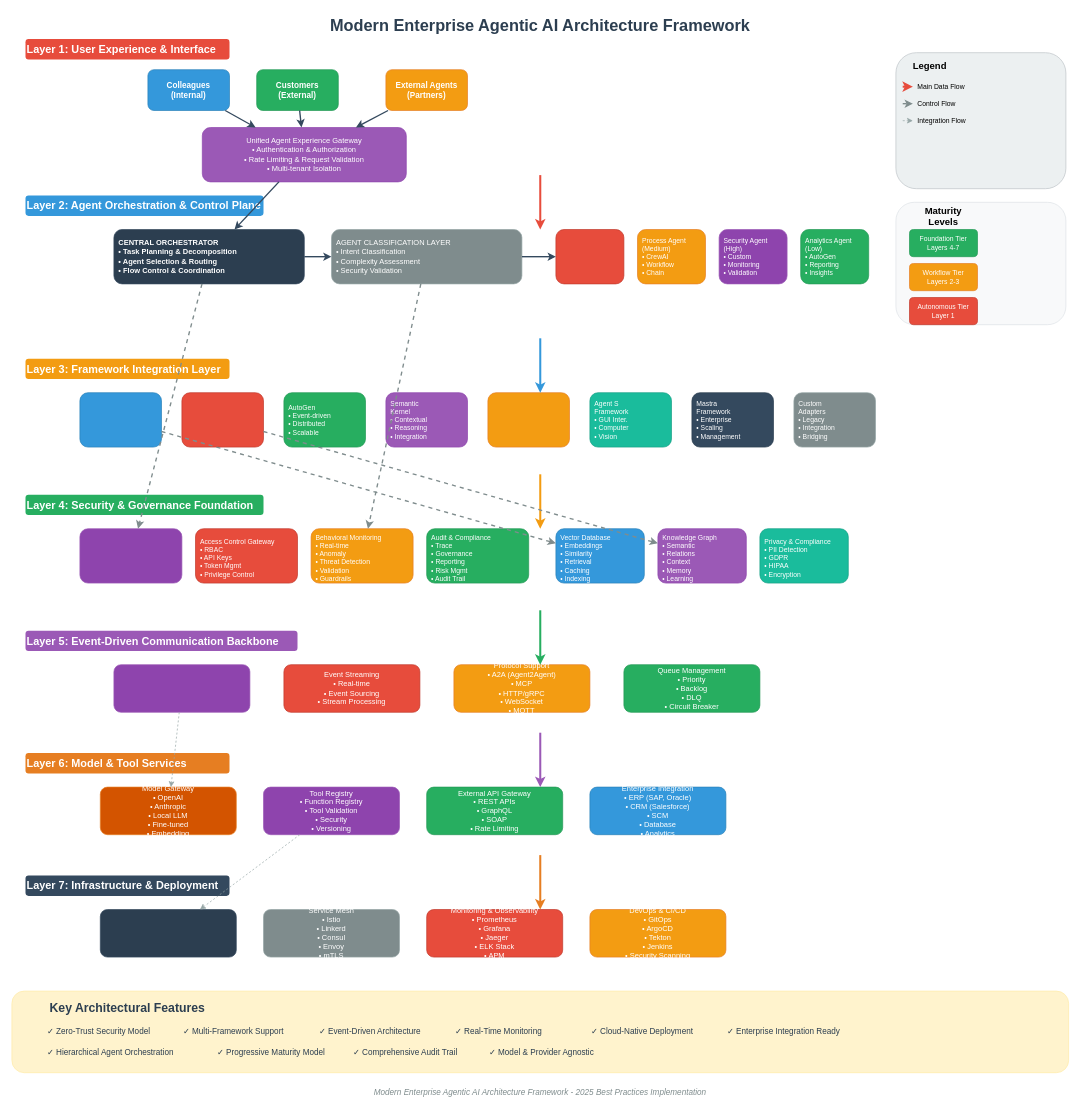
Image size: 1081x1111. Some labels were removed from this diagram. The shapes that lost their labels are listed below. From the top down, each one's centre as x and y in pixels, then its label:
At pixel 589 256: "Domain Agent (High) • LangGraph • Memory • Tools".
At pixel 120 419: "LangGraph • Graph-based • Workflows • Streaming".
At pixel 222 419: "CrewAI • Multi-agent • Coordination • Task Exec.".
At pixel 528 419: "OpenAISwarm • Lightweight • Simple • Fast".
At pixel 130 555: "Agent Identity Management • Service Accounts • Workload Identity • Pod/K8s ID".
At pixel 181 688: "Message Broker • Apache Kafka • RabbitMQ • Apache Pulsar".
At pixel 168 933: "Container Orchestration • Kubernetes • Docker • Helm • Operators • Auto Scaling".
